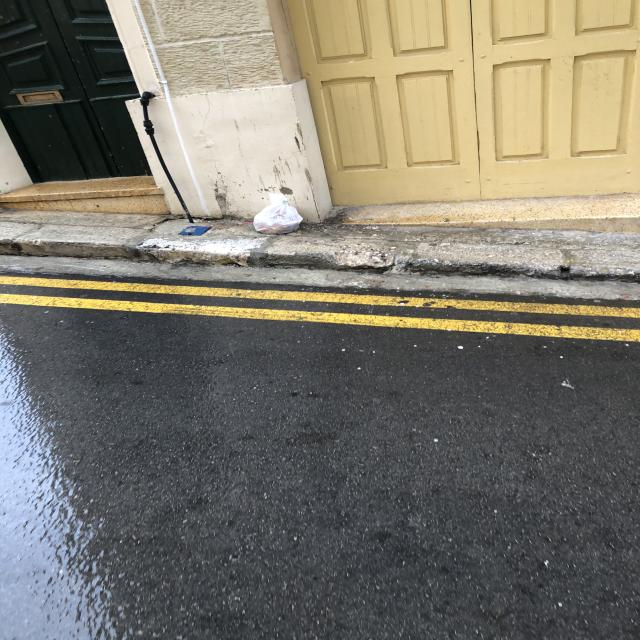Organic Waste -White Bag-: (253, 192, 307, 234)
